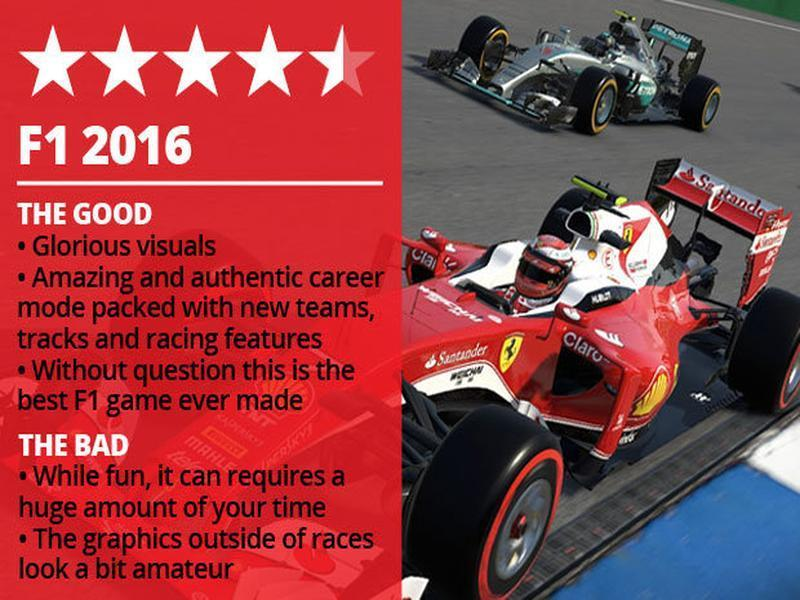f1: (345, 173, 800, 540), (421, 5, 742, 136)
